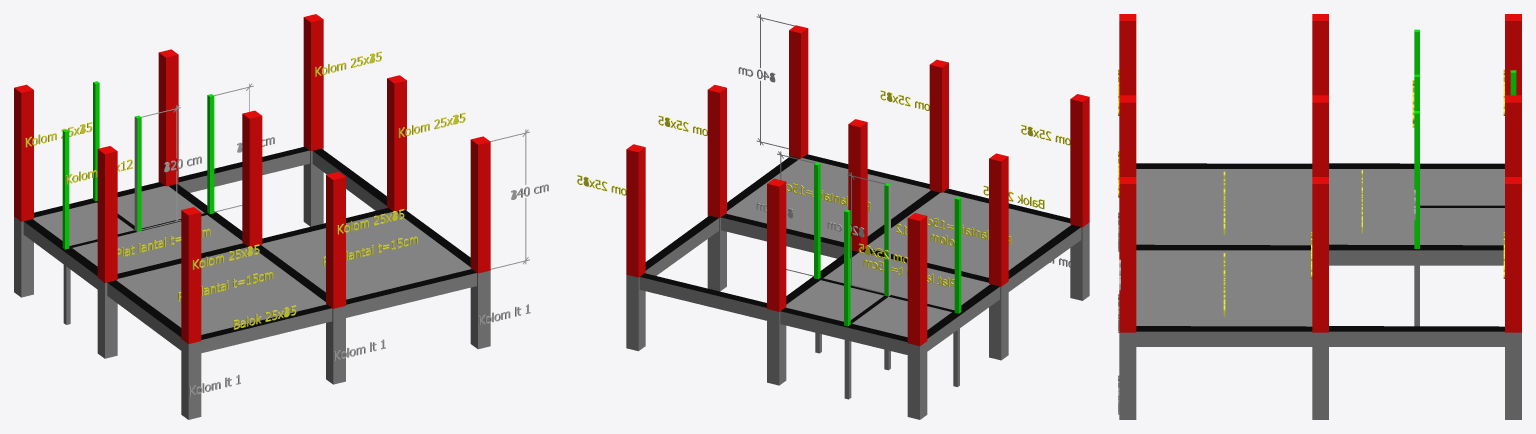
Rendered from Kolom lt 2.fbx.
3 renders of one model, left to right at view 1: azimuth 30°, elevation 25°; view 2: azimuth 150°, elevation 25°; view 3: azimuth 270°, elevation 25°, orthographic. The views are drawn at different scales.
Parts seen in each view (by area): view 1: Model, Group3, Group4, Group5, Group1, Group7, Group9, Group2, Group8, Group6, Group10, Group11 (+1 smaller); view 2: Model, Group8, Group2, Group3, Group7, Group9, Group4, Group1, Group6, Group5, Group11, Group10 (+1 smaller); view 3: Model, Group3, Group6, Group7, Group2, Group1, Group4, Group5, Group9, Group8, Group10.
Part boxes in pixels (x1,y1,x2,y2): Model: (14, 83, 529, 419); Group3: (470, 136, 490, 273); Group4: (97, 146, 117, 282); Group5: (242, 110, 262, 246); Group1: (181, 207, 201, 343); Group7: (303, 14, 323, 150); Group9: (158, 49, 178, 186); Group2: (326, 171, 345, 308); Group8: (14, 84, 33, 221); Group6: (387, 75, 406, 211); Group10: (207, 94, 214, 213); Group11: (62, 129, 69, 249); Model: (626, 14, 1089, 419); Group8: (907, 213, 927, 346); Group2: (929, 59, 948, 192); Group3: (789, 25, 808, 158); Group7: (626, 144, 645, 277); Group9: (767, 178, 786, 311); Group4: (989, 153, 1008, 286); Group1: (1070, 94, 1089, 227); Group6: (707, 85, 726, 217); Group5: (848, 119, 867, 251); Group11: (954, 197, 961, 313); Group10: (814, 162, 820, 279); Model: (1119, 74, 1521, 419); Group3: (1119, 177, 1136, 332); Group6: (1312, 177, 1328, 332); Group7: (1505, 177, 1521, 332); Group2: (1119, 95, 1136, 176); Group1: (1119, 14, 1136, 95); Group4: (1312, 14, 1328, 95); Group5: (1312, 95, 1328, 176); Group9: (1505, 95, 1521, 176); Group8: (1505, 14, 1521, 95); Group10: (1414, 111, 1419, 248).
Bounding box in the file's own units: 9.96 × 5.48 × 8.38.
